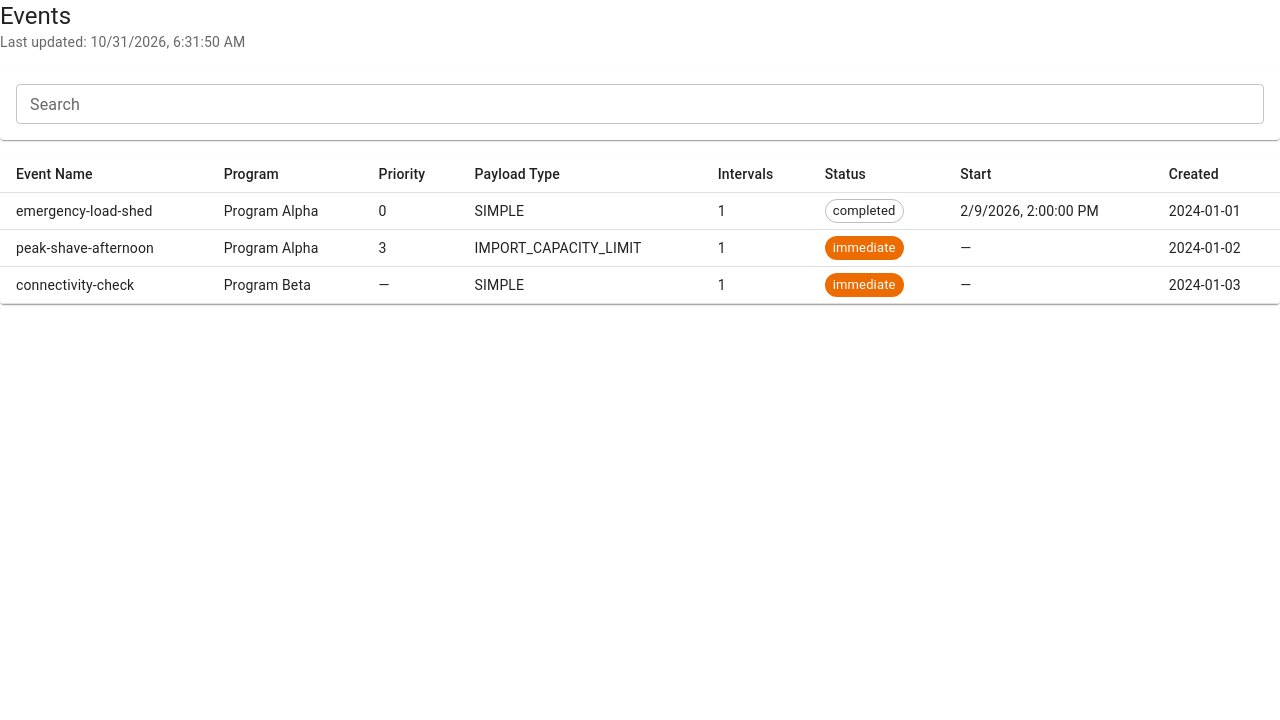
Test case: EventsPage › opens detail panel when row is clicked
Click the row with test id "event-row-e1". click: (640, 211)
box: [0, 192, 1279, 230]
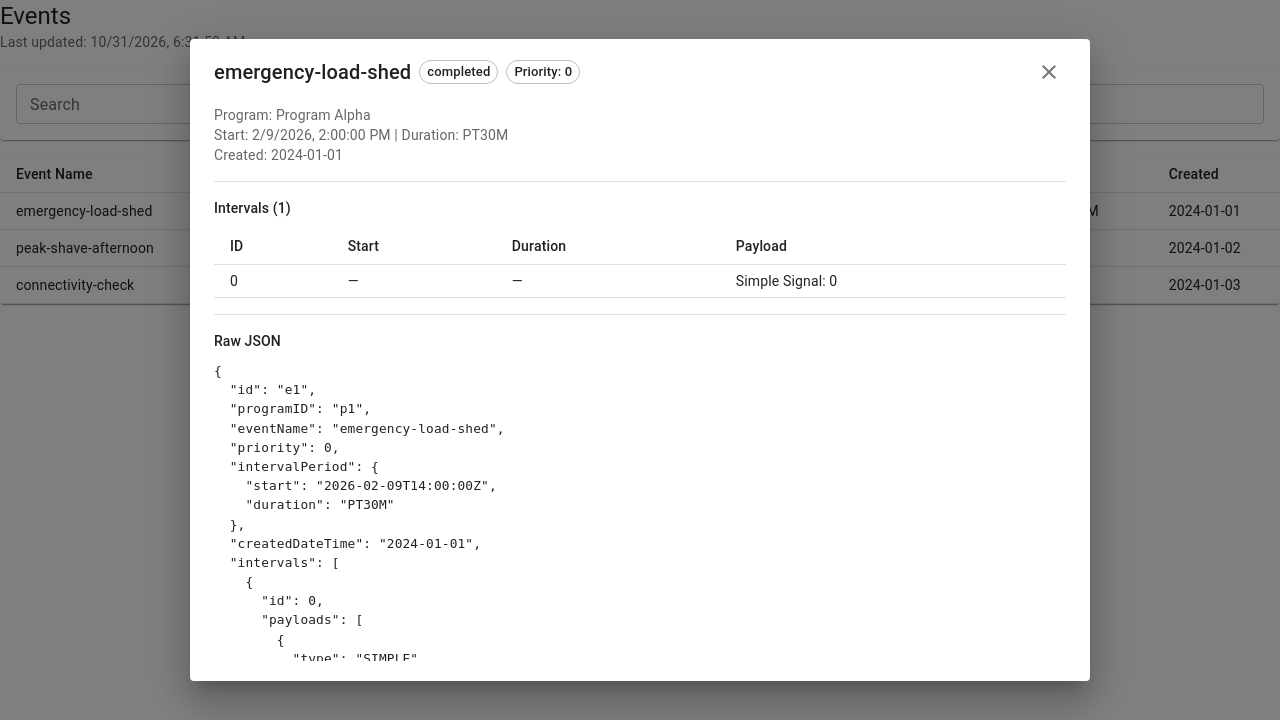
Now the element with test id "event-detail-panel" is shown
Now the heading with test id "event-detail-title" shows "emergency-load-shed", box [214, 60, 411, 84]
